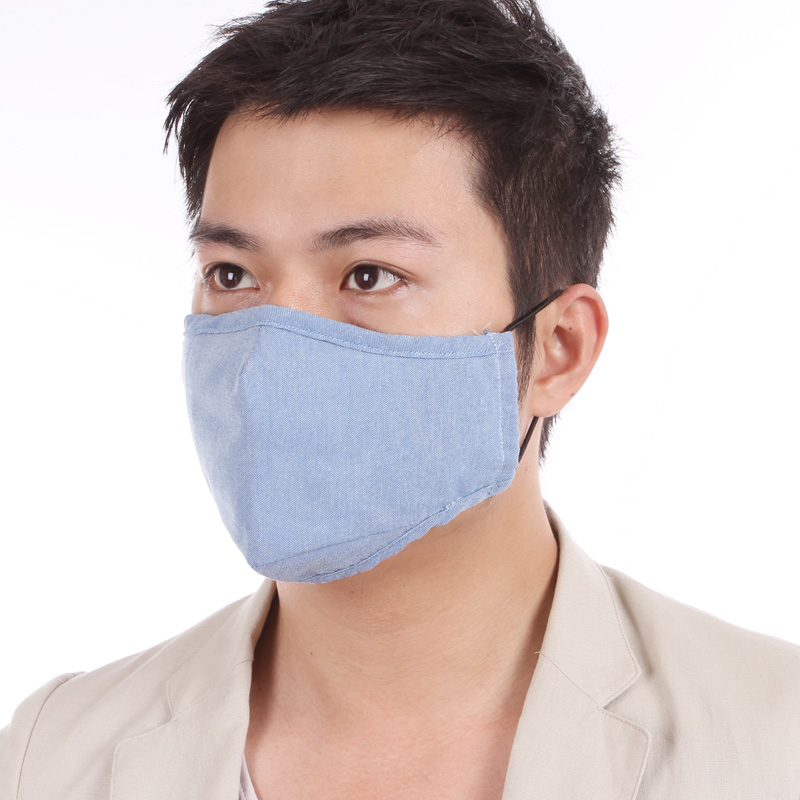face_mask: (183, 101, 508, 581)
